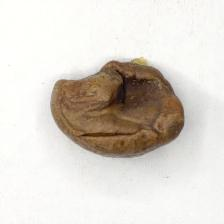NG: (57, 64, 163, 143)
